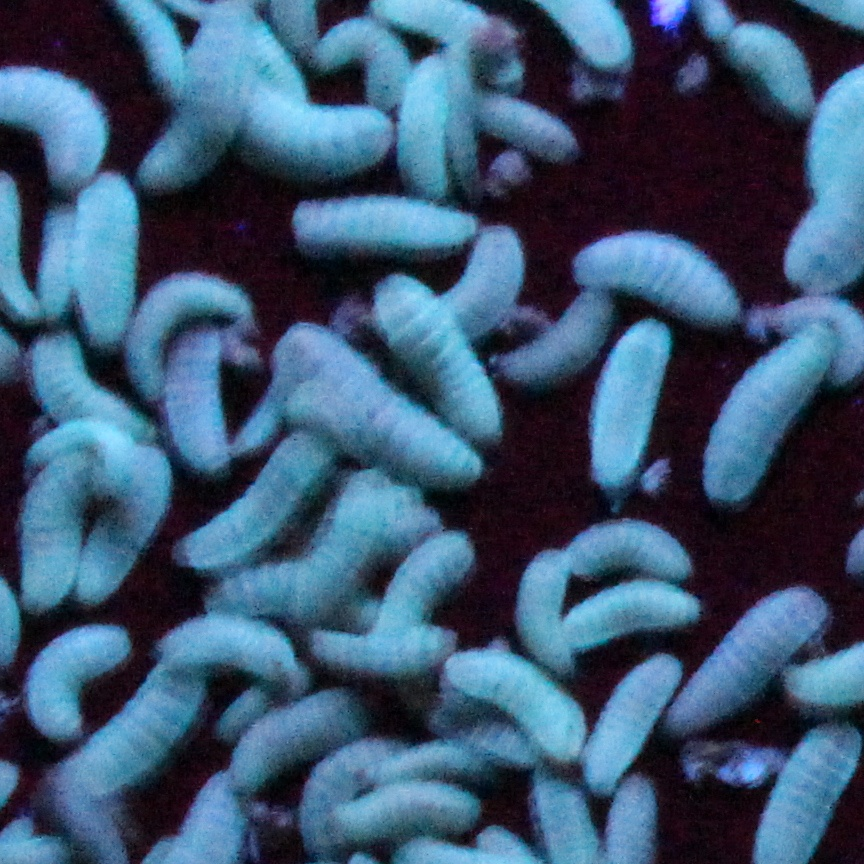larve: (695, 326, 834, 504), (666, 577, 823, 730), (379, 281, 506, 443), (183, 424, 326, 563), (570, 217, 750, 324), (146, 6, 252, 186), (334, 366, 483, 481), (83, 648, 205, 784), (234, 679, 392, 783), (125, 268, 254, 392), (586, 310, 674, 483), (446, 648, 579, 750), (28, 330, 146, 444), (290, 194, 479, 264), (83, 443, 165, 601), (590, 654, 679, 795), (239, 97, 390, 177), (426, 221, 528, 339), (25, 444, 97, 608), (370, 535, 470, 652), (28, 626, 126, 743), (75, 174, 141, 343), (556, 575, 703, 650), (719, 17, 823, 117), (457, 84, 592, 161), (496, 290, 612, 377), (394, 48, 457, 199), (168, 315, 230, 466), (239, 326, 316, 446), (297, 617, 446, 679), (297, 739, 381, 848), (303, 14, 403, 104), (157, 614, 292, 679), (336, 783, 496, 837), (563, 519, 692, 583), (514, 546, 579, 668), (199, 564, 348, 614), (26, 419, 130, 483), (366, 739, 494, 777), (43, 197, 75, 314)
